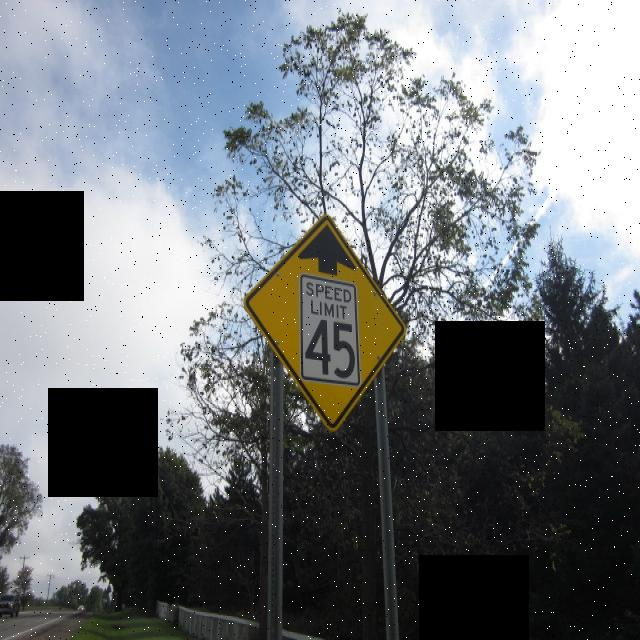regulatory: (299, 272, 357, 385)
warning: (243, 211, 420, 432)
